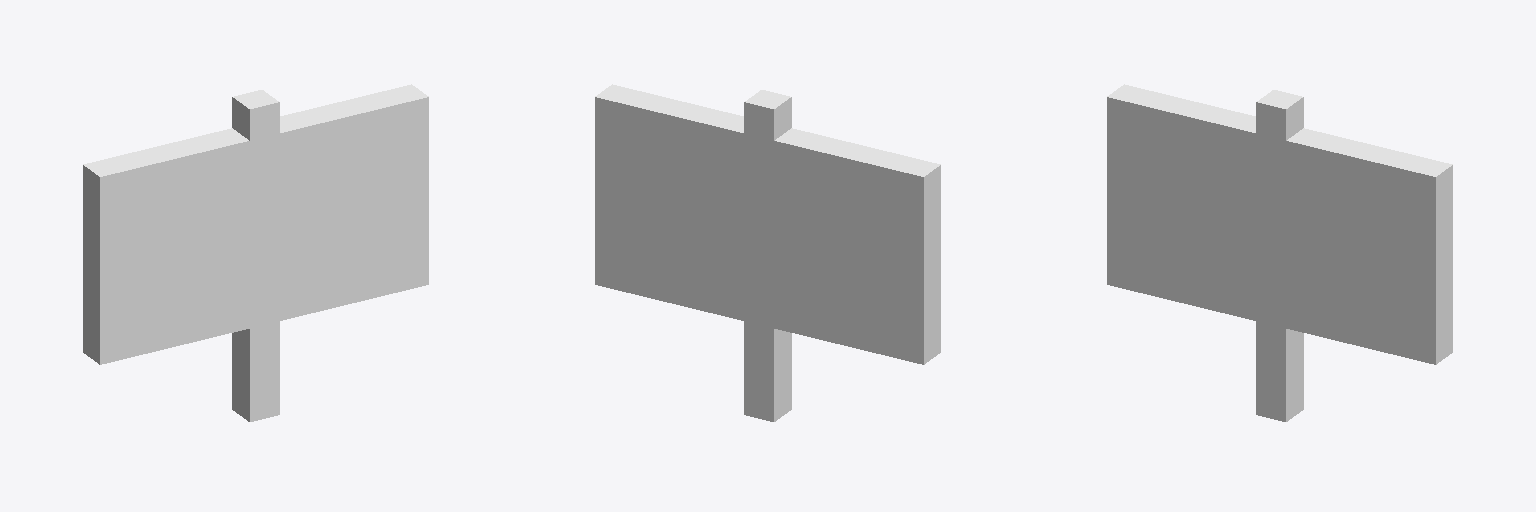
File: LetreroMadera.obj
3 views of the same model, side by side, from view 1: azimuth 30°, elevation 25°; view 2: azimuth 150°, elevation 25°; view 3: azimuth 330°, elevation 25° (orthographic).
Parts seen in each view (by area): view 1: LetreroMadera; view 2: LetreroMadera; view 3: LetreroMadera.
Boxes of the visible parts, box(x1,y1,x2,y2) form: LetreroMadera: box(83, 84, 428, 421); LetreroMadera: box(595, 84, 940, 421); LetreroMadera: box(1107, 84, 1452, 421).
Bounding box in the file's own units: 1.1 × 1 × 0.1.